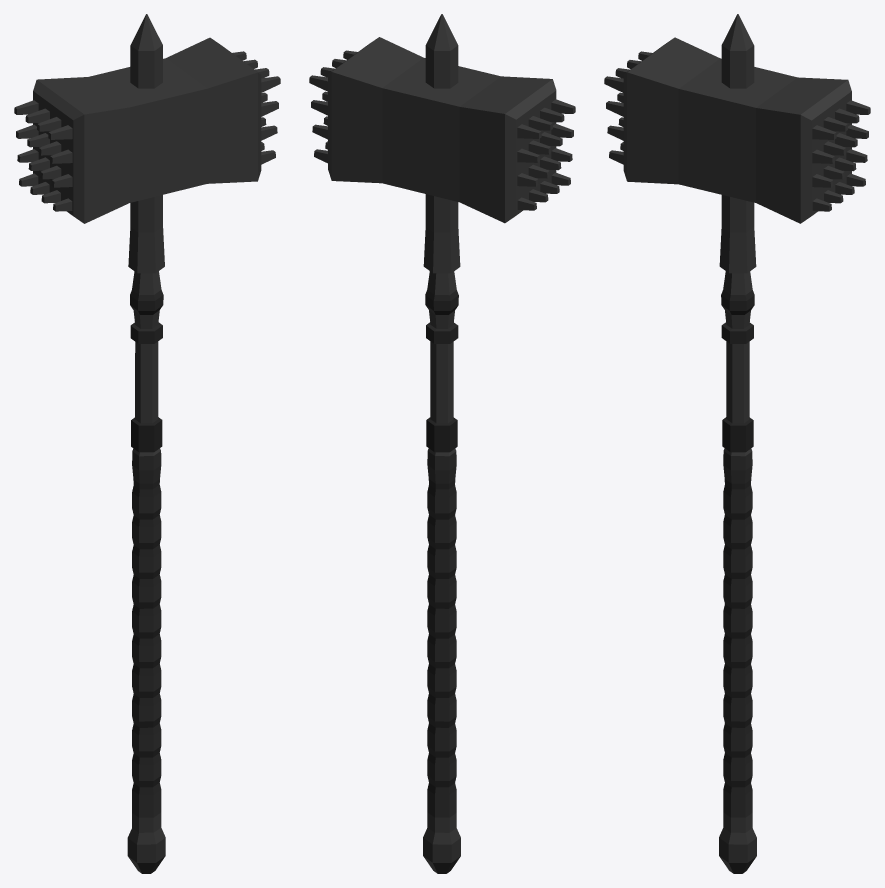
File: Hammer.fbx
The picture shows the model from 3 angles, left to right: view 1: azimuth 30°, elevation 25°; view 2: azimuth 150°, elevation 25°; view 3: azimuth 330°, elevation 25°; orthographic projection.
Visible parts, largest first — view 1: Plane.006; view 2: Plane.006; view 3: Plane.006.
Part boxes in pixels (x1=…): Plane.006: x1=14, y1=14, x2=280, y2=873; Plane.006: x1=309, y1=14, x2=575, y2=873; Plane.006: x1=604, y1=14, x2=870, y2=873.
Bounding box in the file's own units: 0.5129 × 0.1848 × 1.83.
